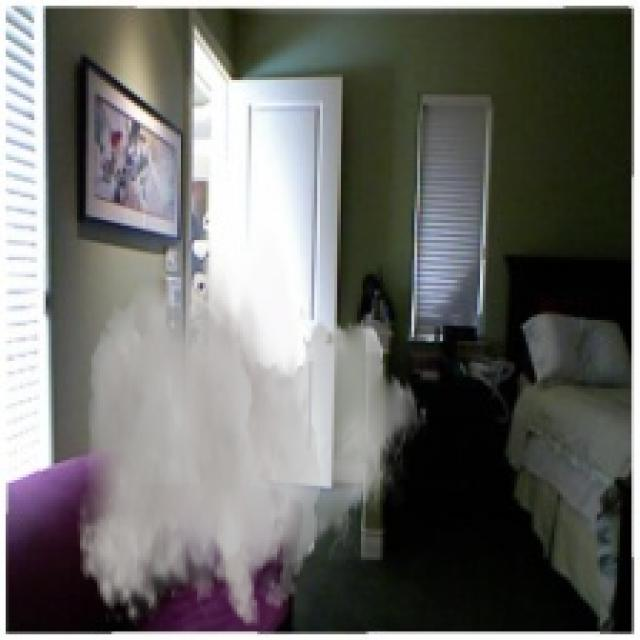smoke: (77, 237, 429, 629)
